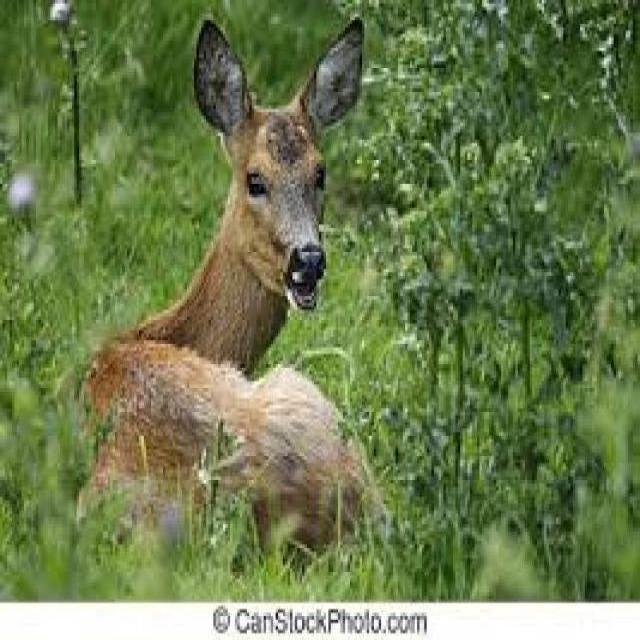deer: (61, 10, 399, 555)
